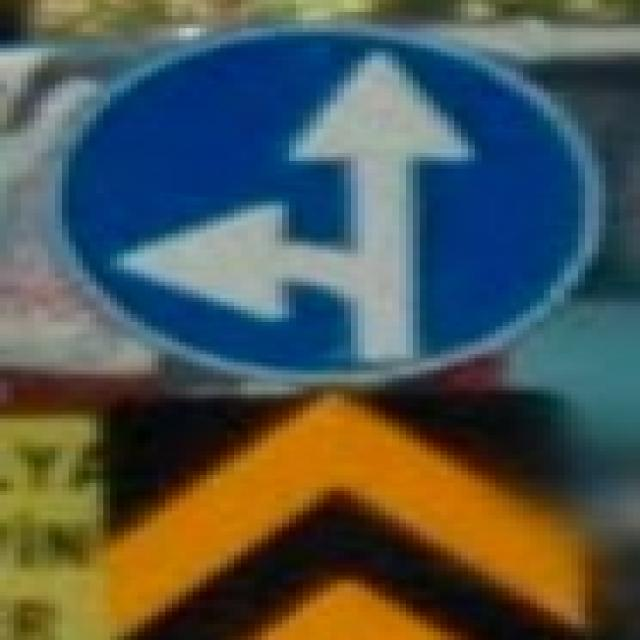Straight or Left: (56, 32, 600, 386)
